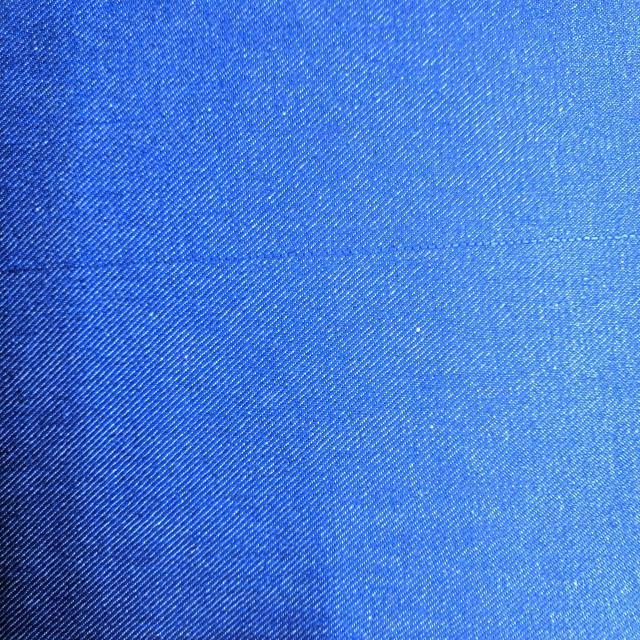Line: (17, 228, 630, 275)
